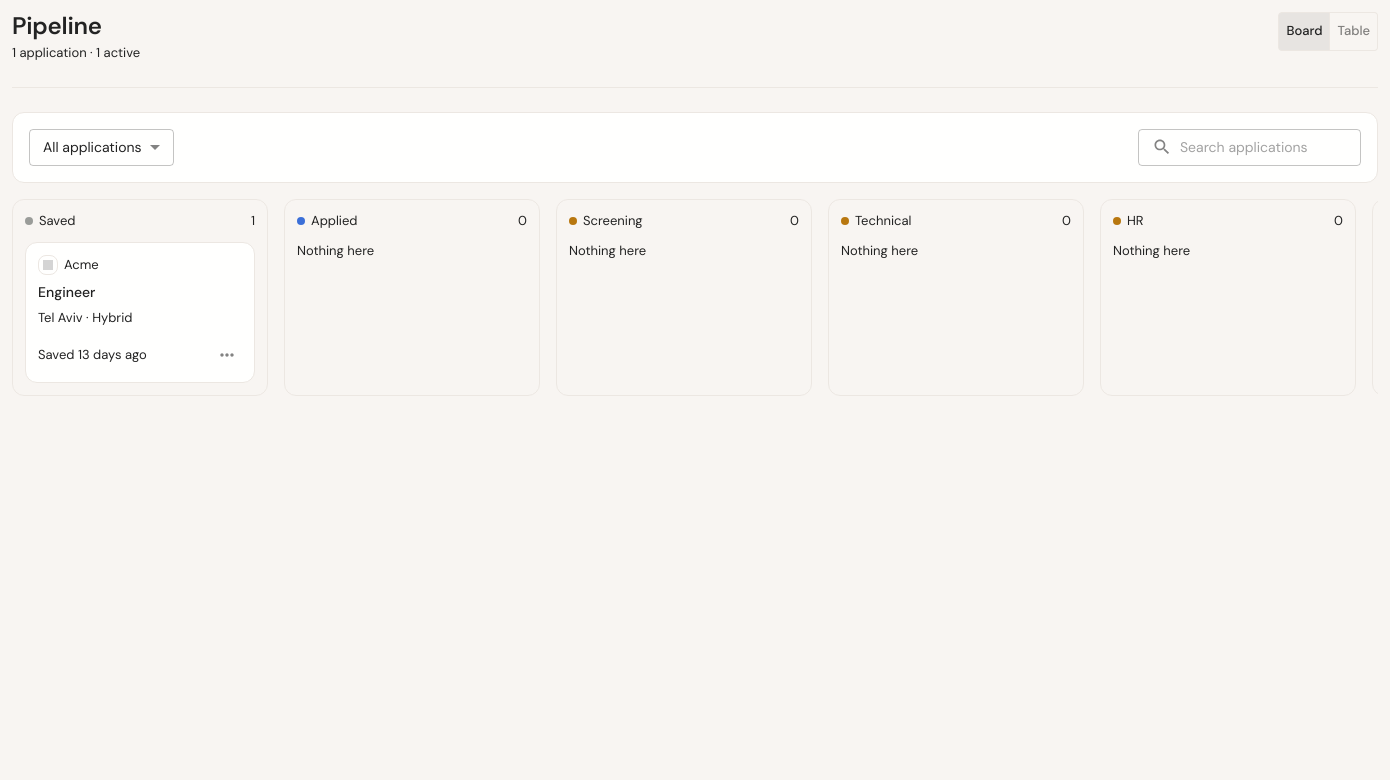
Test: PipelinePage › should switch to the table and change status there
expect the element "Saved" is shown: met, box [12,199,268,396]
Step 1. Click the button "Table" → (1354, 31), box [1330,12,1378,51]
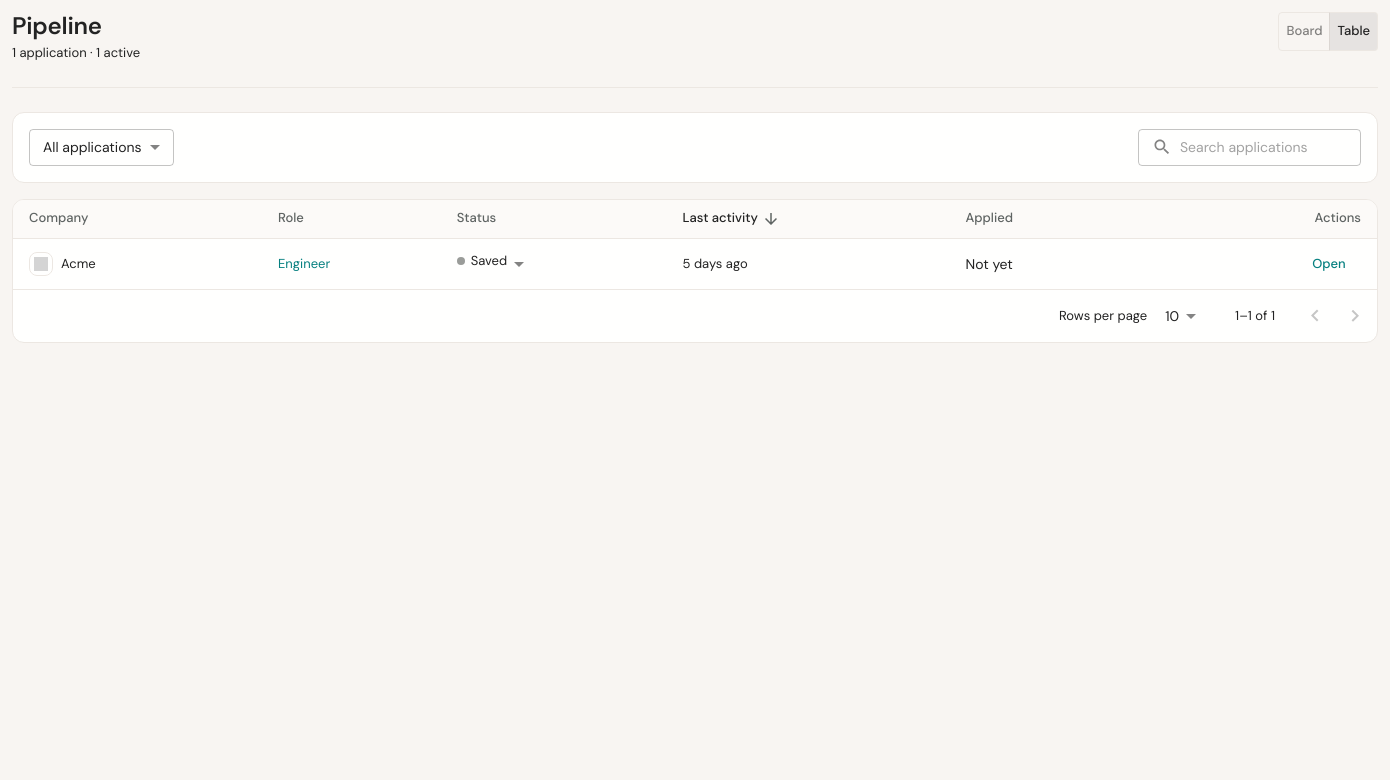
expect the cell "Acme" is shown: met, box [13,238,262,290]
expect the table with test id "pipeline-table" is shown: met, box [13,200,1377,290]
expect the text "Not yet" is shown: met, box [966,255,1013,273]
Step 2. Click the dropdown named "Status for Engineer" → (482, 260), box [457,252,507,269]
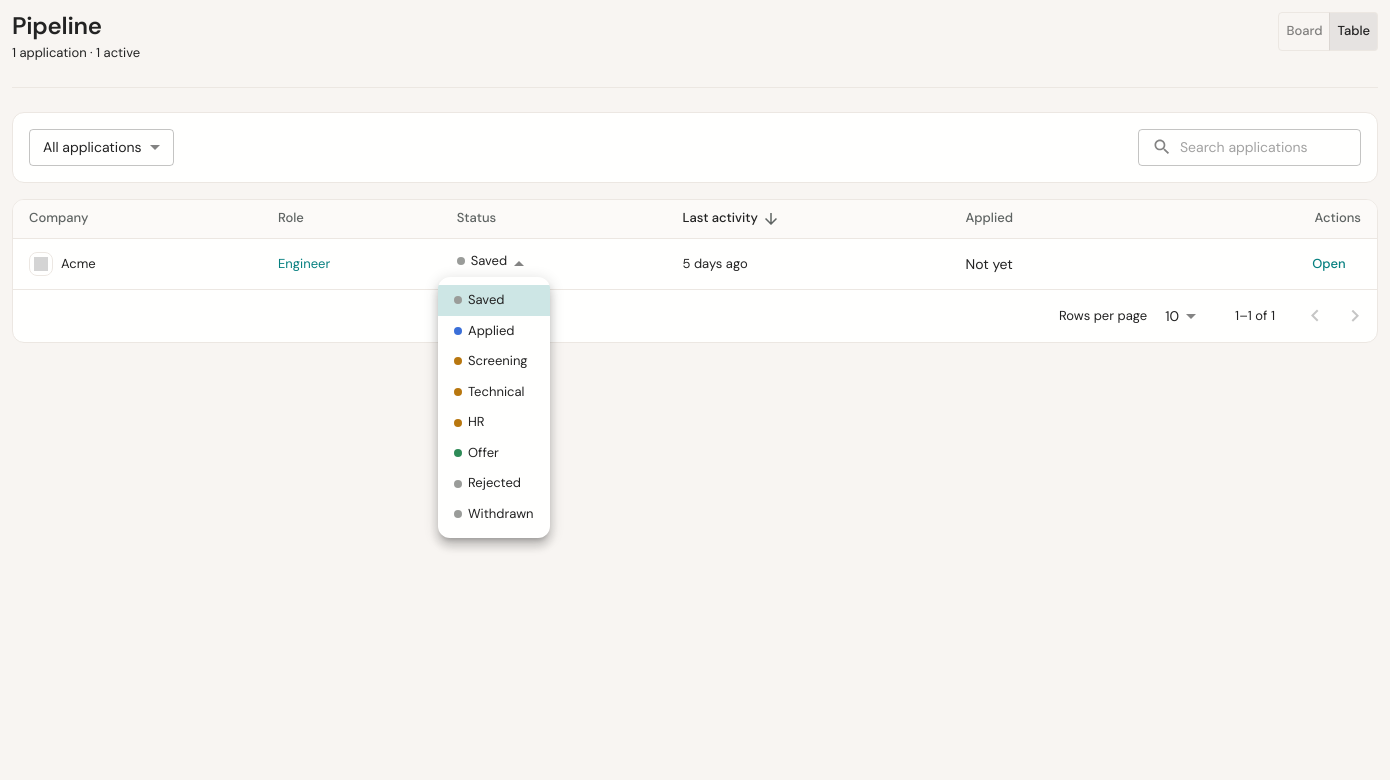
Step 3. Click the option "Screening" → (491, 361), box [454,352,528,369]
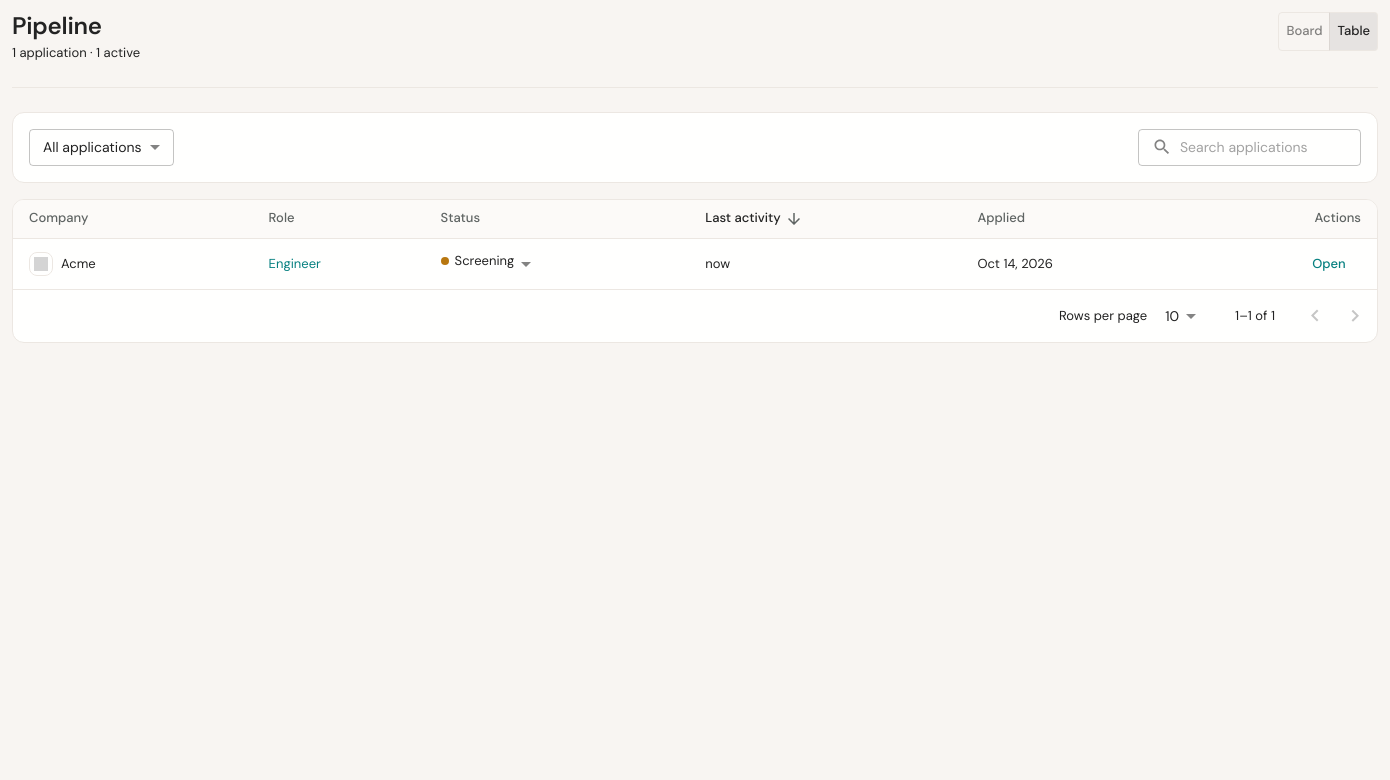
expect the dropdown named "Status for Engineer" reads "Screening": met, box [441,252,514,269]
